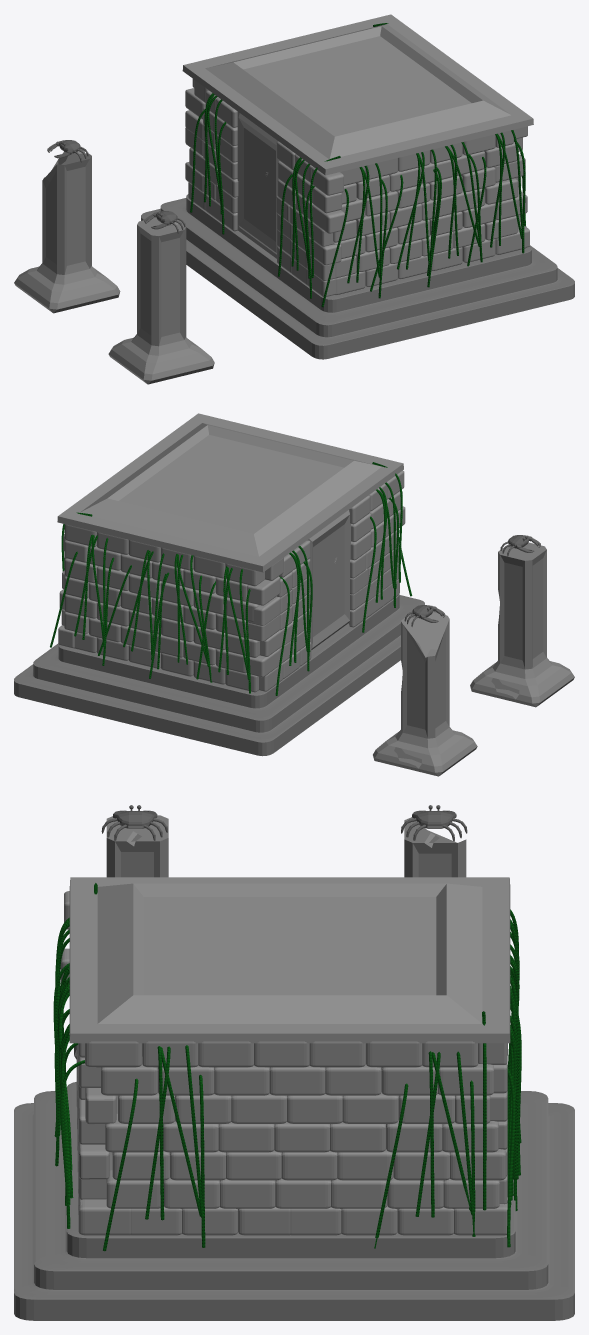
Rendered from tample.fbx.
3 renders of one model, top to bottom at view 1: azimuth 30°, elevation 25°; view 2: azimuth 150°, elevation 25°; view 3: azimuth 270°, elevation 25°, orthographic. The views are drawn at different scales.
Visible parts, largest first — view 1: Cube.003; view 2: Cube.003; view 3: Cube.003.
Part boxes in pixels (<box>): Cube.003: <box>14,14,574,384</box>; Cube.003: <box>14,413,574,776</box>; Cube.003: <box>14,805,574,1320</box>.
Size of the model in its own units: 1107 by 474 by 843.
